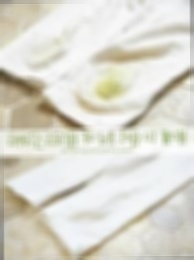earth: (98, 73, 127, 98)
